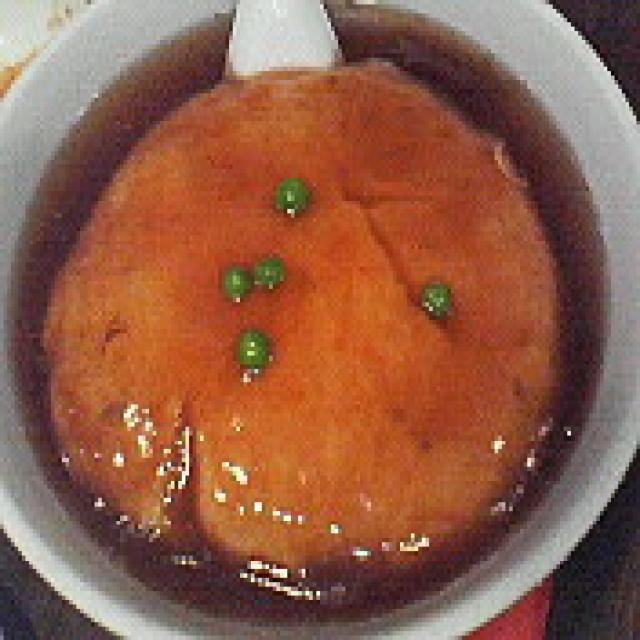面条主食: (11, 14, 600, 614)
